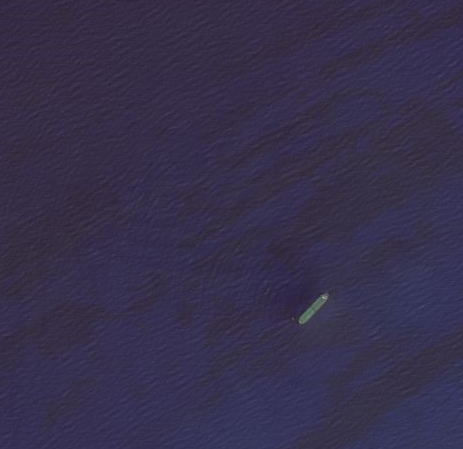ship: (291, 290, 335, 326)
